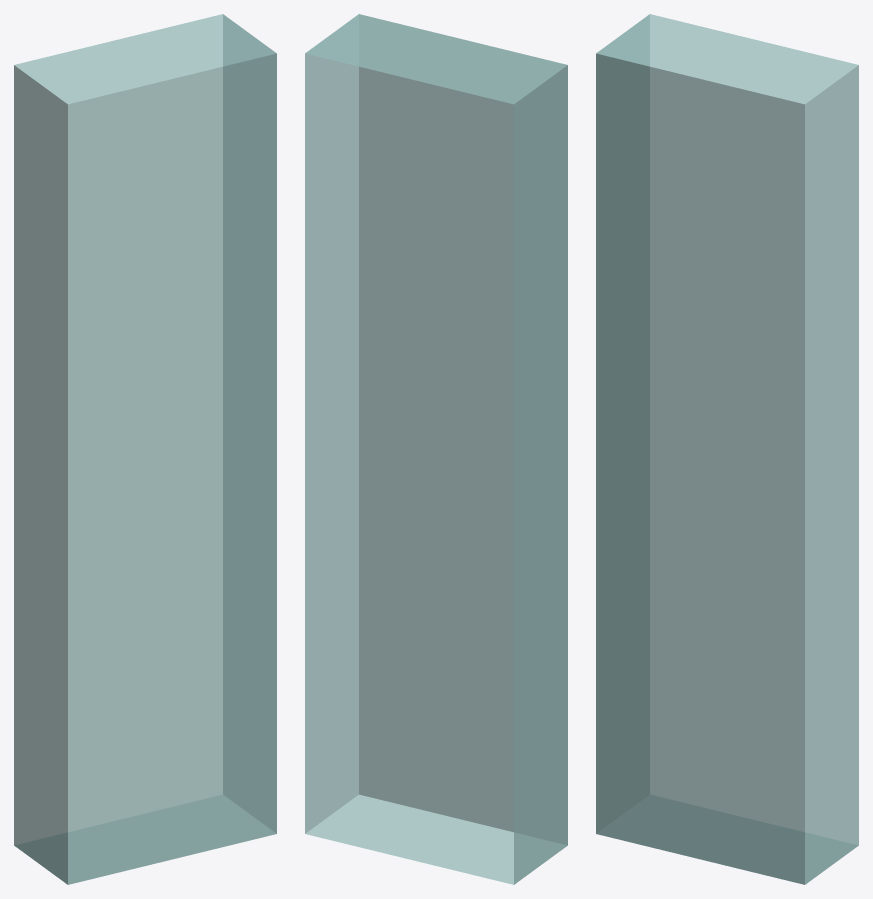
File: original-14.obj
3 views of the same model, side by side, from view 1: azimuth 30°, elevation 25°; view 2: azimuth 150°, elevation 25°; view 3: azimuth 330°, elevation 25° (orthographic).
Parts seen in each view (by area): view 1: mesh1/mesh1-geometry#mesh1-geometry; view 2: mesh1/mesh1-geometry#mesh1-geometry; view 3: mesh1/mesh1-geometry#mesh1-geometry.
Boxes of the visible parts, left/top/right/bottom form: mesh1/mesh1-geometry#mesh1-geometry: left=14, top=14, right=276, bottom=884; mesh1/mesh1-geometry#mesh1-geometry: left=305, top=14, right=567, bottom=884; mesh1/mesh1-geometry#mesh1-geometry: left=596, top=14, right=858, bottom=884.
Bounding box in the file's own units: 0.0153 × 0.0546 × 0.00684.
